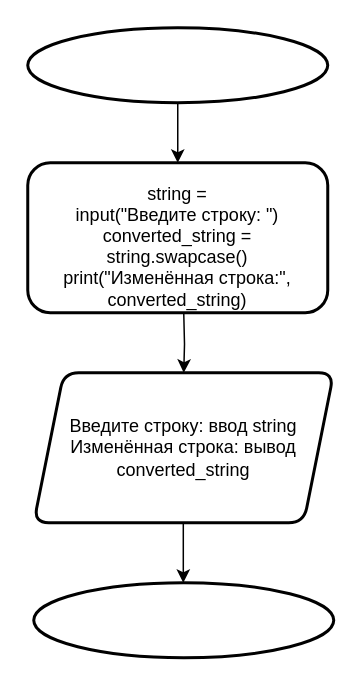
The diagram is 360 pixels wide and 684 high, and some of its shapes have lost their labels. The shapes that lost their labels are listed below. From the top down, each one's box as (x1, y1, x2, y2) in pixels, then its label:
(26, 26, 328, 104): Начало
(32, 580, 334, 658): Конец
